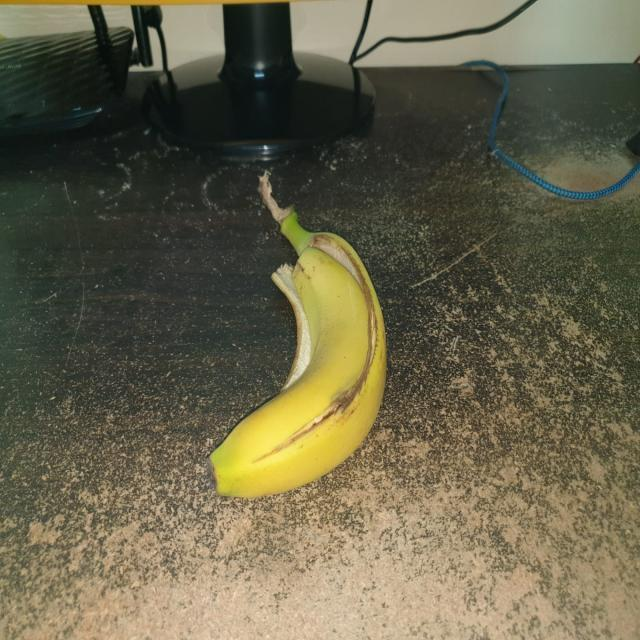banana-peel: (208, 170, 388, 499)
